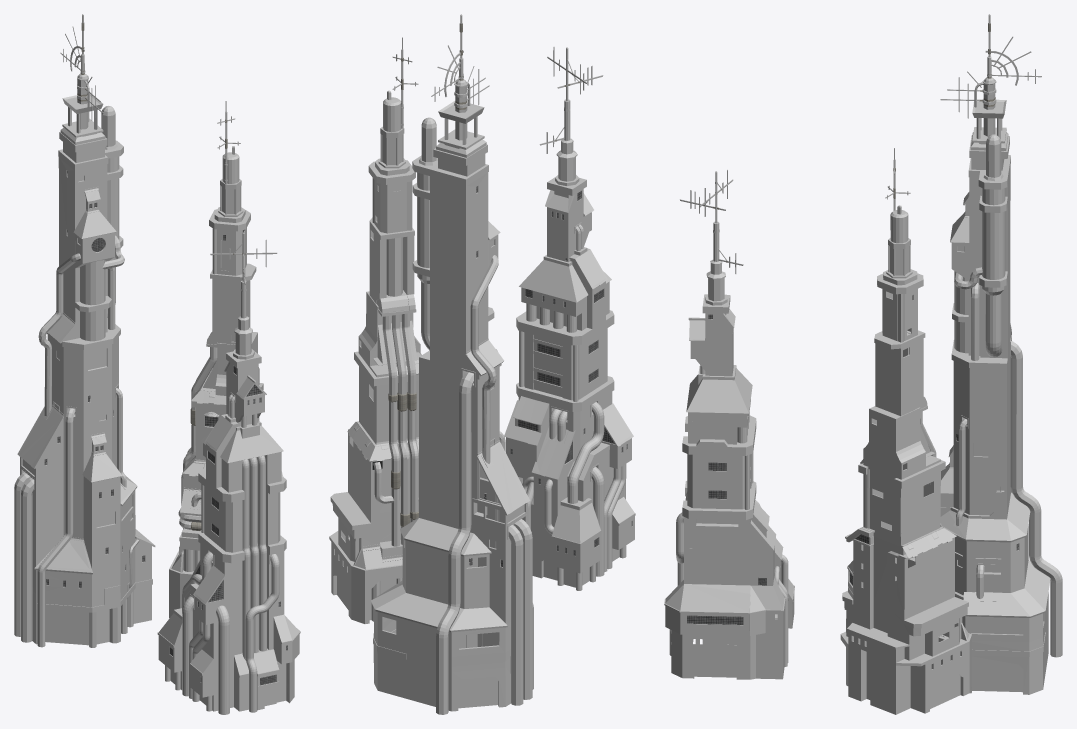
The model's file is CommonBuilding_Da_Distant.fbx.
The picture shows the model from 3 angles, left to right: view 1: azimuth 30°, elevation 25°; view 2: azimuth 150°, elevation 25°; view 3: azimuth 270°, elevation 25°; orthographic projection. The views are drawn at different scales.
Visible parts, largest first — view 1: SM_ENV_AMVLLG02_CommonBuilding_Da_Distant.mo; view 2: SM_ENV_AMVLLG02_CommonBuilding_Da_Distant.mo; view 3: SM_ENV_AMVLLG02_CommonBuilding_Da_Distant.mo.
Boxes of the visible parts, left/top/right/bottom form: SM_ENV_AMVLLG02_CommonBuilding_Da_Distant.mo: left=14, top=14, right=300, bottom=714; SM_ENV_AMVLLG02_CommonBuilding_Da_Distant.mo: left=329, top=14, right=635, bottom=714; SM_ENV_AMVLLG02_CommonBuilding_Da_Distant.mo: left=664, top=14, right=1062, bottom=714.
Size of the model in its own units: 4519 by 12287 by 6833.
